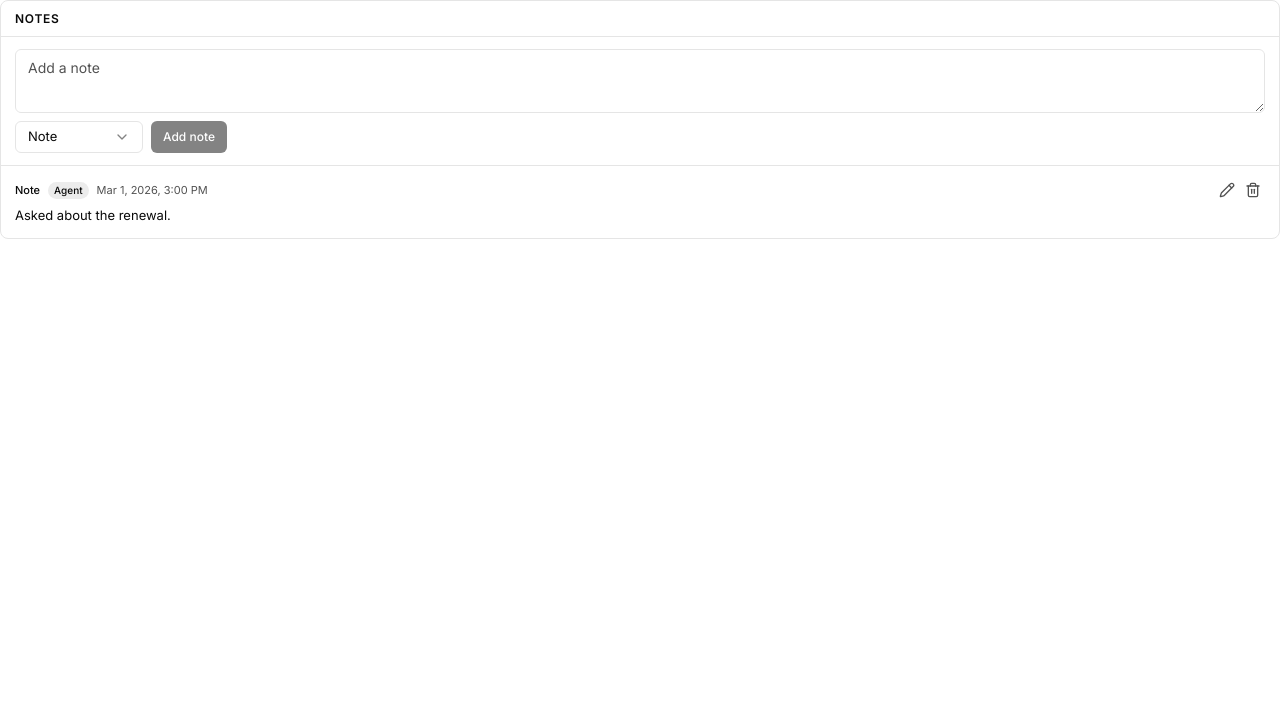
Test: ContactNotesCard › deletes only after the confirm
Click the button named "Delete note": (1253, 190) [1241, 178, 1265, 202]
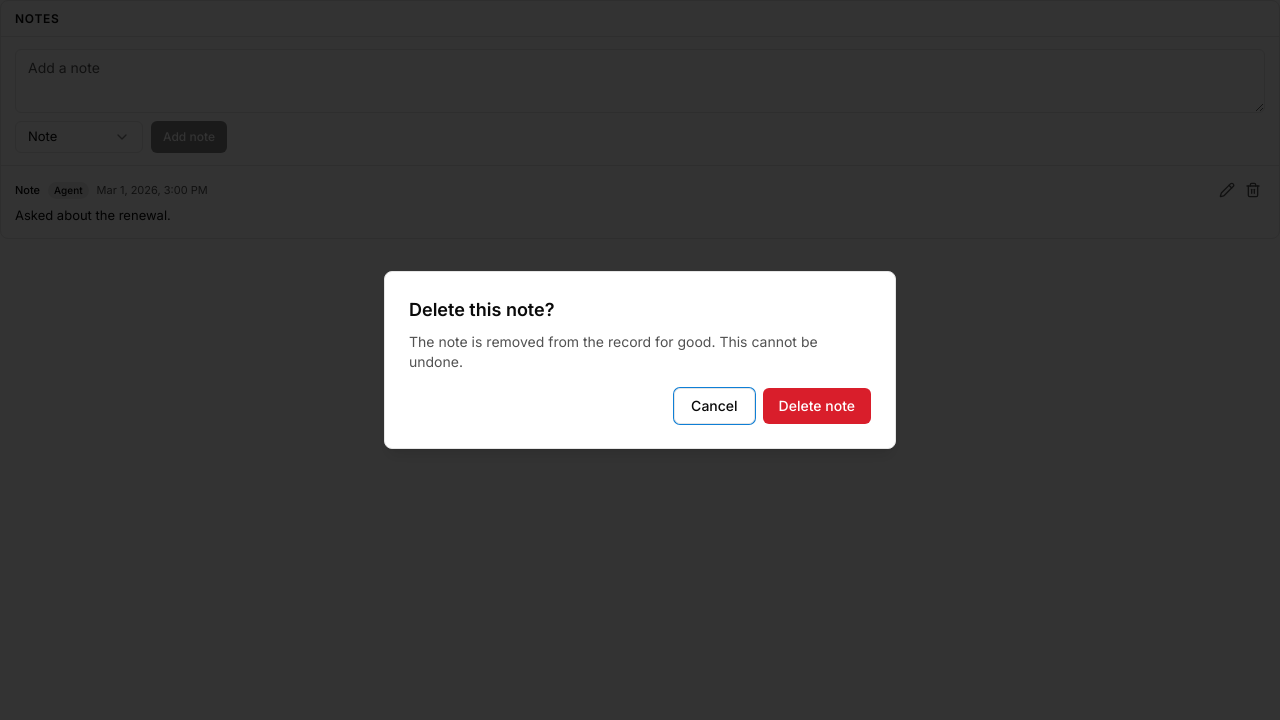
Click the button "Delete note": (817, 406) [763, 388, 871, 424]
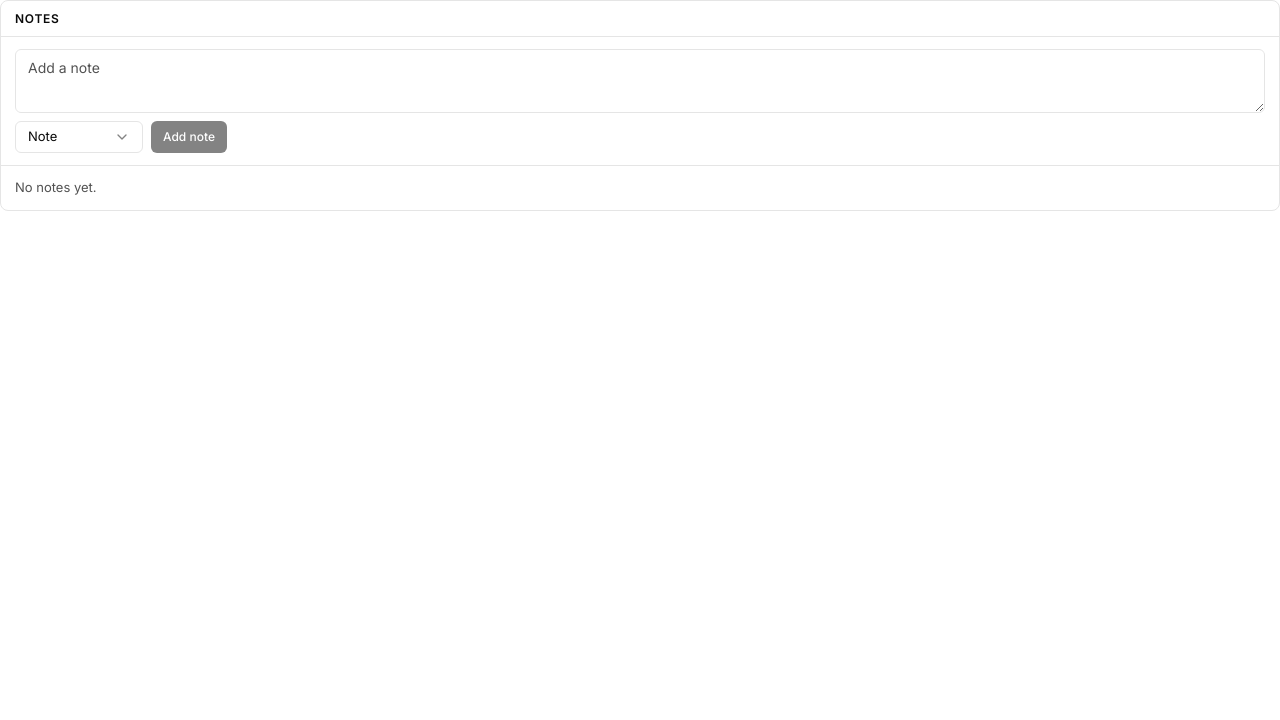
Expected: the text "No notes yet." is shown, [15, 179, 97, 195]
